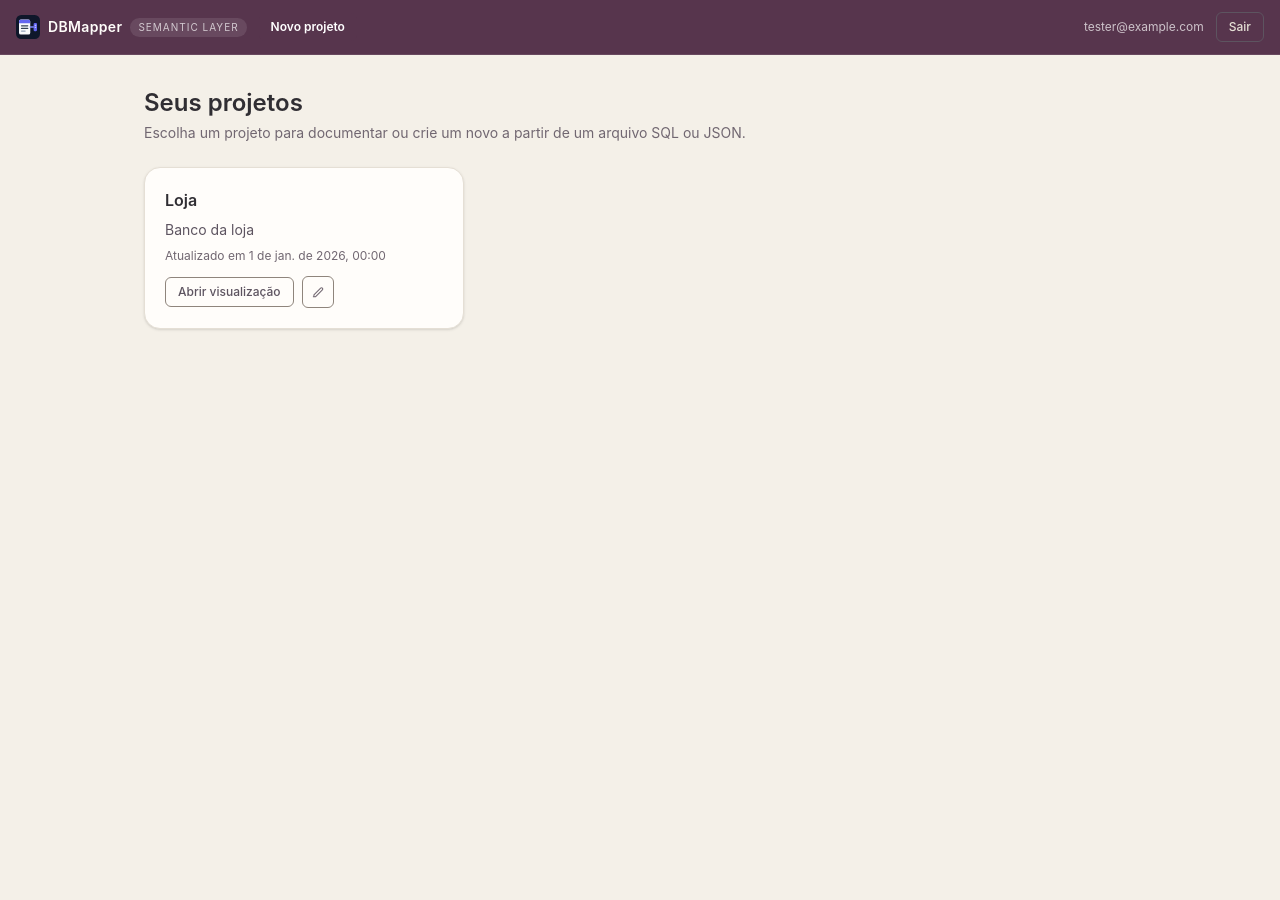
Test: GalleryPage › clicar no card abre o workspace do projeto
Click the link with aria-label "Abrir projeto Loja": coordinates (181, 200) [165,190,386,263]
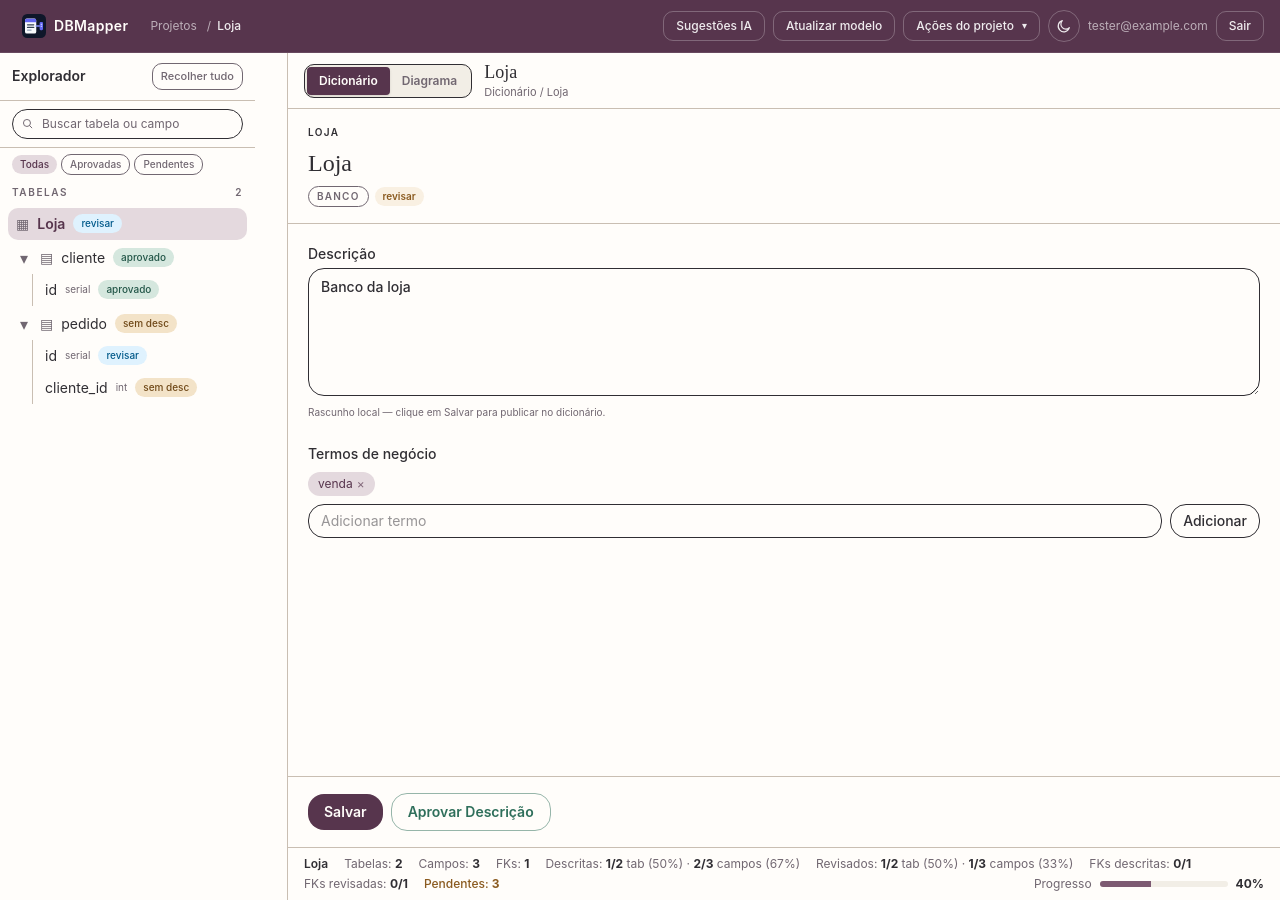
Expected: the button with test id "table-row-cliente" is shown, [40,242,247,274]
Expected: the heading "Seus projetos" is gone
